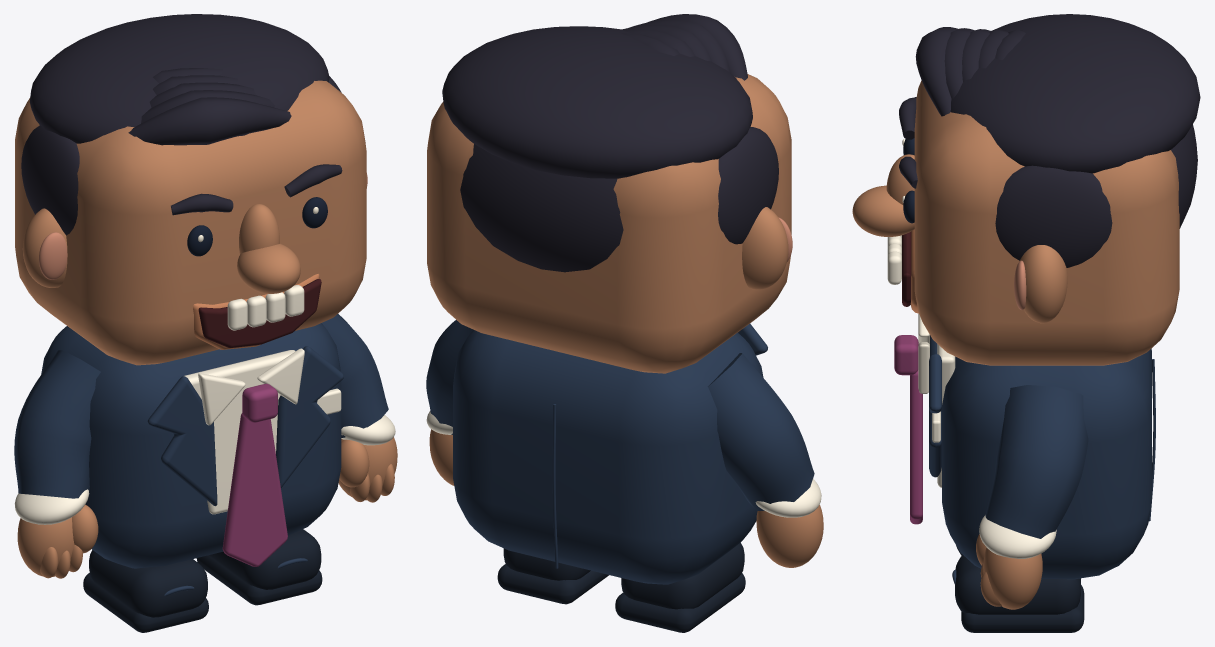
File: client.glb
3 views of the same model, side by side, from view 1: azimuth 30°, elevation 25°; view 2: azimuth 150°, elevation 25°; view 3: azimuth 270°, elevation 25° (orthographic). The views are drawn at different scales.
Parts seen in each view (by area): view 1: client_warm_vinyl, client_satin_clothing, client_hair, client_ivory, client_shoes, client_trim, client_silk_purple, client_mouth, client_eyes, client_ear_inset, client_lip; view 2: client_satin_clothing, client_hair, client_warm_vinyl, client_shoes, client_ivory, client_trim; view 3: client_warm_vinyl, client_hair, client_satin_clothing, client_shoes, client_ivory, client_silk_purple, client_trim, client_mouth, client_eyes, client_ear_inset.
Boxes of the visible parts, x1=… form: client_warm_vinyl: x1=15, y1=80, x2=397, y2=578; client_satin_clothing: x1=14, y1=314, x2=388, y2=568; client_hair: x1=21, y1=14, x2=342, y2=235; client_ivory: x1=14, y1=207, x2=395, y2=524; client_shoes: x1=83, y1=529, x2=322, y2=632; client_trim: x1=147, y1=346, x2=343, y2=595; client_silk_purple: x1=222, y1=383, x2=287, y2=566; client_mouth: x1=198, y1=279, x2=321, y2=347; client_eyes: x1=187, y1=197, x2=327, y2=256; client_ear_inset: x1=39, y1=173, x2=367, y2=279; client_lip: x1=193, y1=274, x2=319, y2=349; client_satin_clothing: x1=426, y1=320, x2=814, y2=584; client_hair: x1=442, y1=14, x2=778, y2=272; client_warm_vinyl: x1=427, y1=74, x2=823, y2=567; client_shoes: x1=497, y1=542, x2=745, y2=632; client_ivory: x1=426, y1=411, x2=821, y2=517; client_trim: x1=552, y1=323, x2=767, y2=568; client_warm_vinyl: x1=852, y1=80, x2=1179, y2=609; client_hair: x1=899, y1=14, x2=1200, y2=267; client_satin_clothing: x1=942, y1=348, x2=1151, y2=579; client_shoes: x1=955, y1=545, x2=1084, y2=632; client_ivory: x1=887, y1=139, x2=1056, y2=558; client_silk_purple: x1=894, y1=335, x2=922, y2=524; client_trim: x1=929, y1=335, x2=1155, y2=584; client_mouth: x1=902, y1=231, x2=911, y2=306; client_eyes: x1=903, y1=138, x2=914, y2=223; client_ear_inset: x1=1014, y1=260, x2=1026, y2=309.
Bounding box in the file's own units: 1.35 × 1.85 × 1.08.
